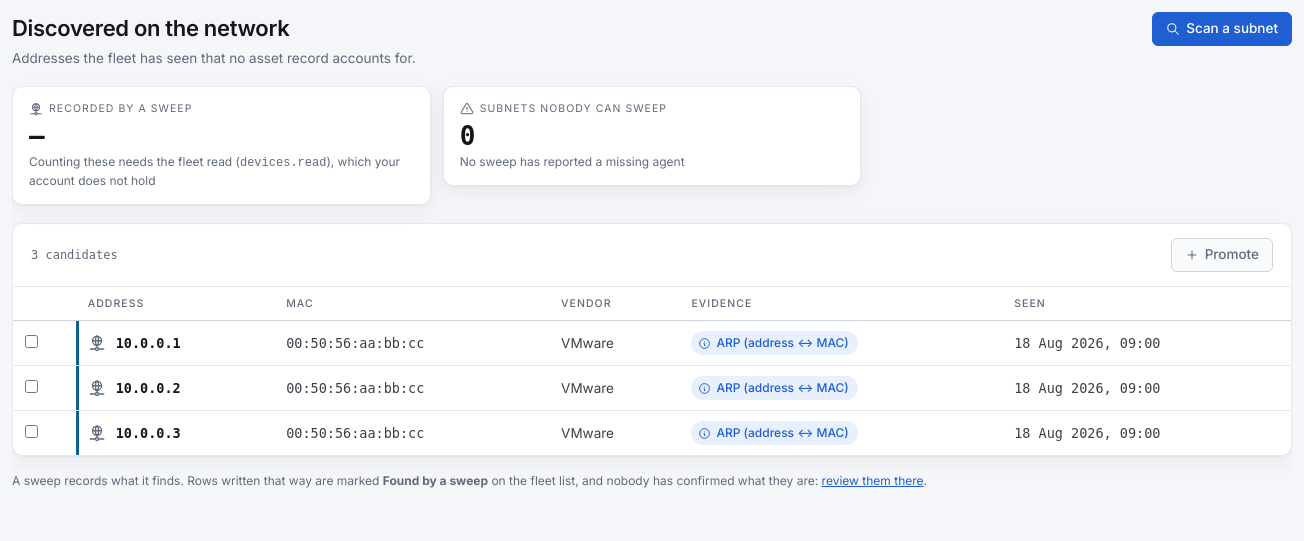
Test: CandidatesPage › keeps the rows of a client whose request failed selected, and only those
The image size is (1304, 541).
expect the text "10.0.0.1" is shown: met, box [116,333,181,354]
Click the checkbox named "10.0.0.1" at (32, 342), box [25,335,38,348]
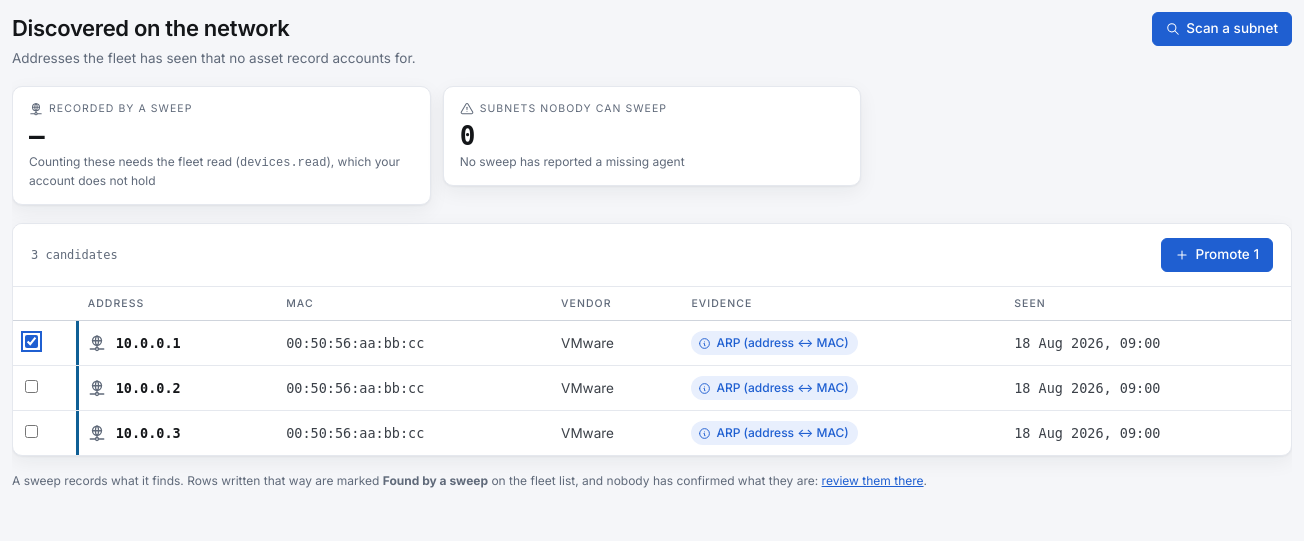
Click the checkbox named "10.0.0.2" at (32, 387), box [25,380,38,393]
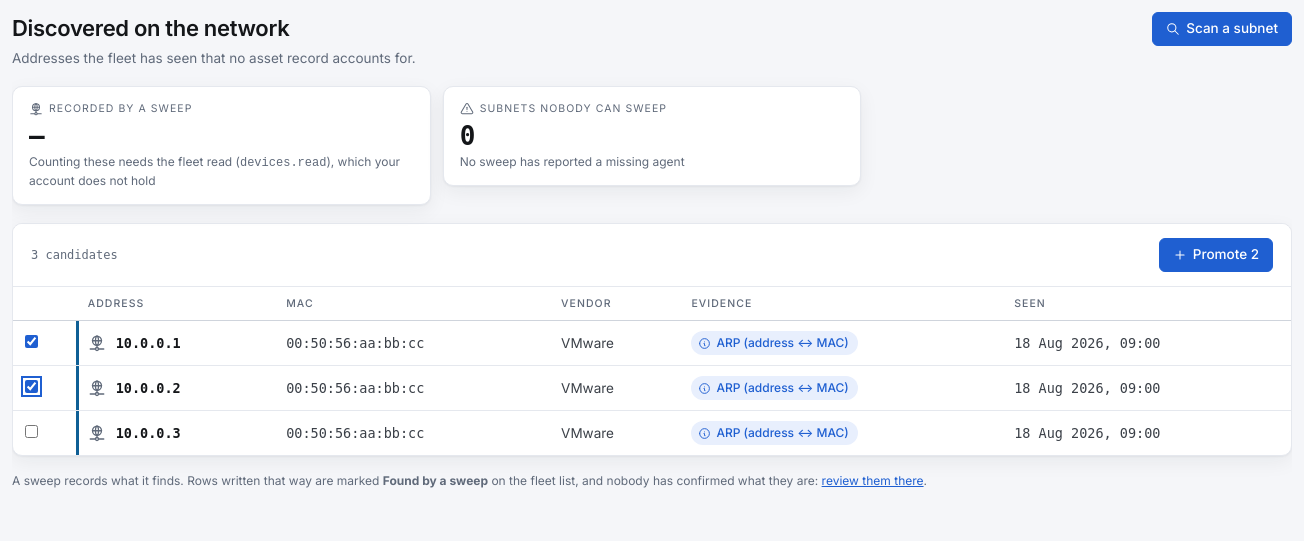
Click the checkbox named "10.0.0.3" at (32, 432), box [25,425,38,438]
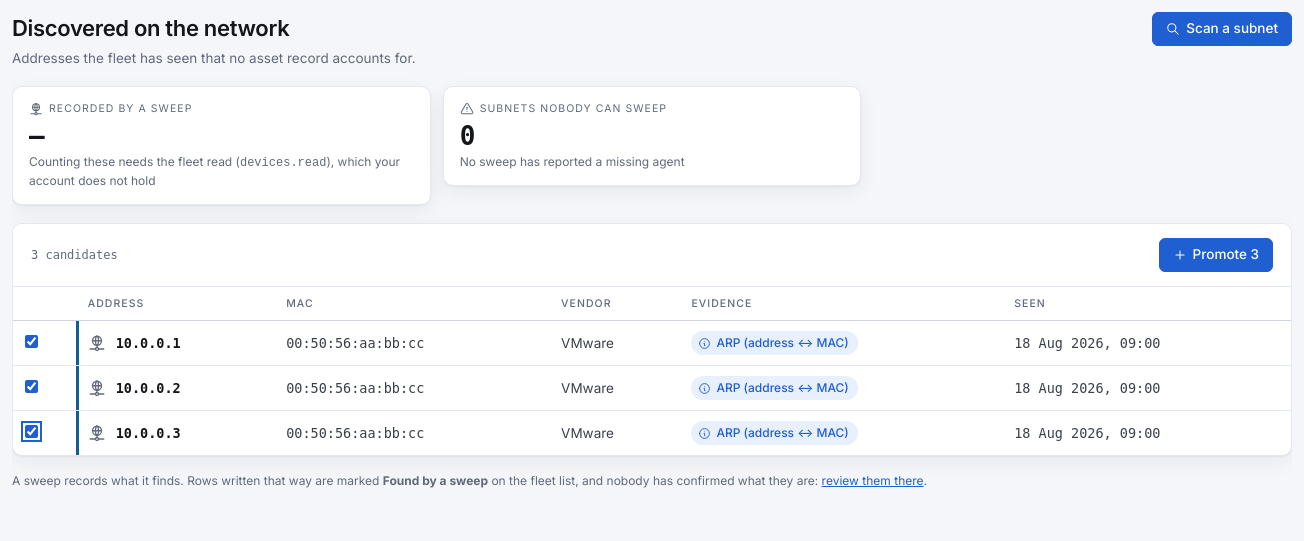
Click the button "Promote 3" at (1216, 255), box [1159,238,1273,272]
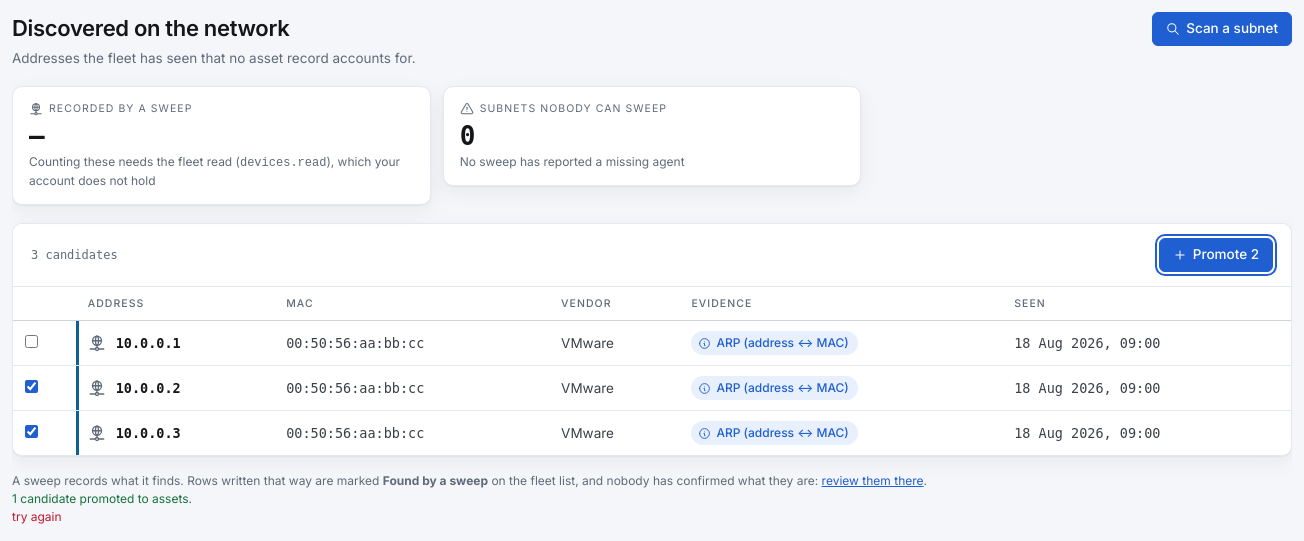
expect the checkbox named "10.0.0.1" is not checked: met, box [25,335,38,348]
expect the checkbox named "10.0.0.2" is checked: met, box [25,380,38,393]
expect the text "try again" is shown: met, box [12,509,62,524]
